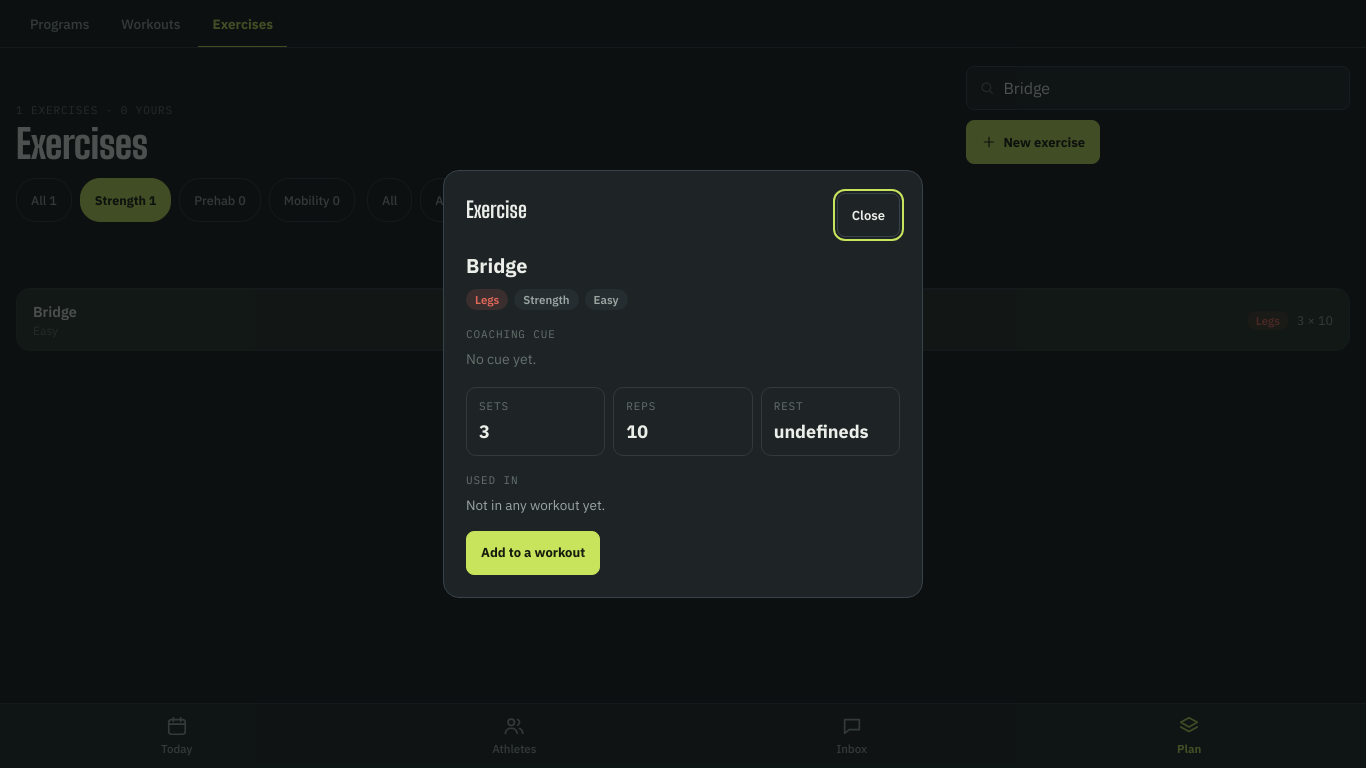
opens the complete creation form from New exercise
Click the button "Close" at (868, 215), box x1=837 y1=193 x2=900 y2=237
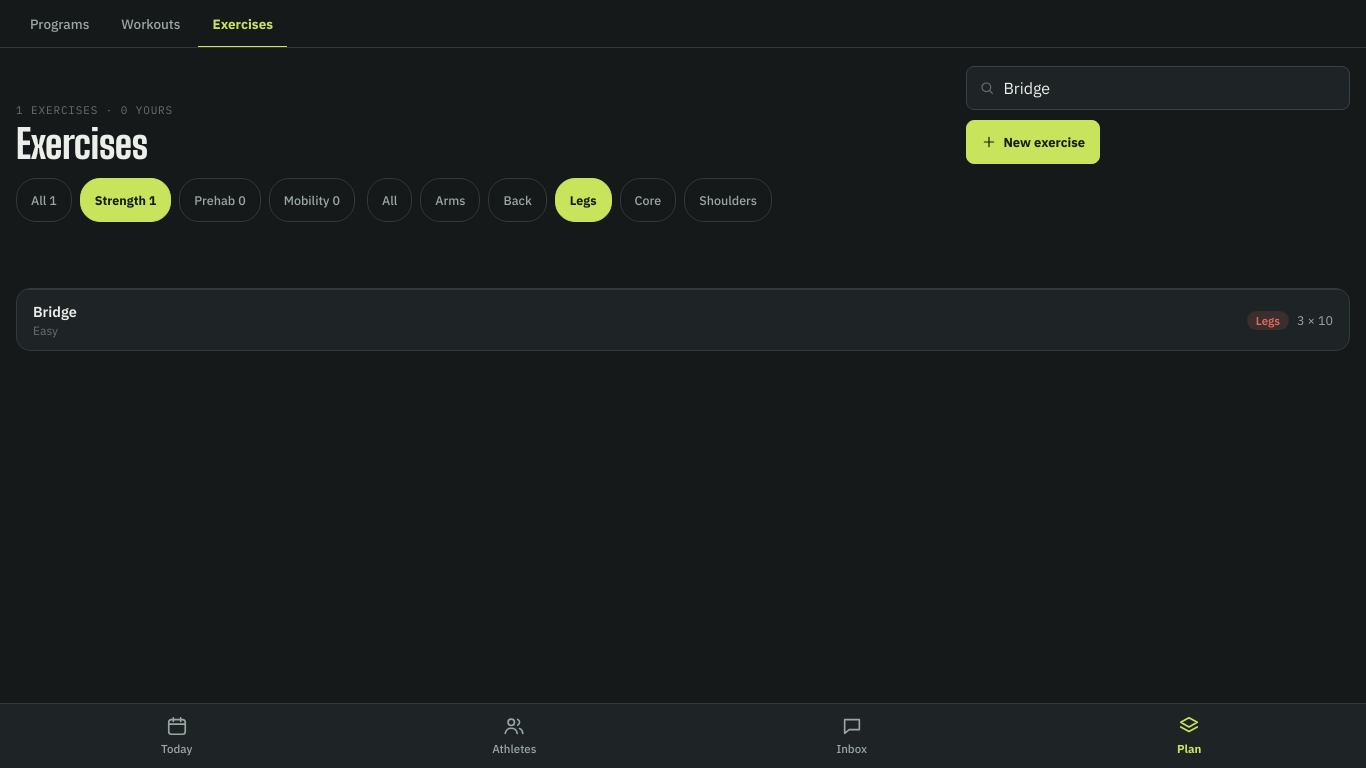
Click the button "New exercise" at (1033, 142), box x1=966 y1=120 x2=1100 y2=164
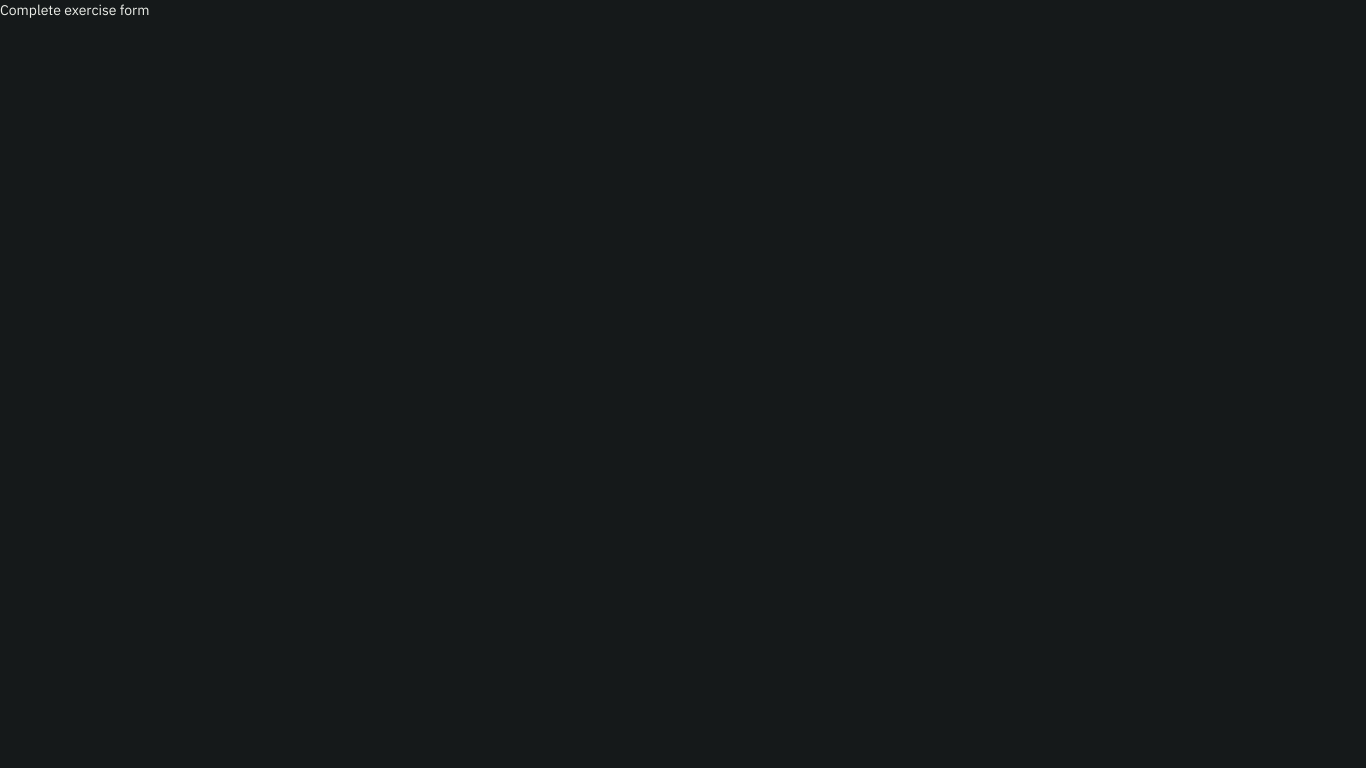
Check: the text "Complete exercise form" is shown, box x1=0 y1=1 x2=150 y2=19
